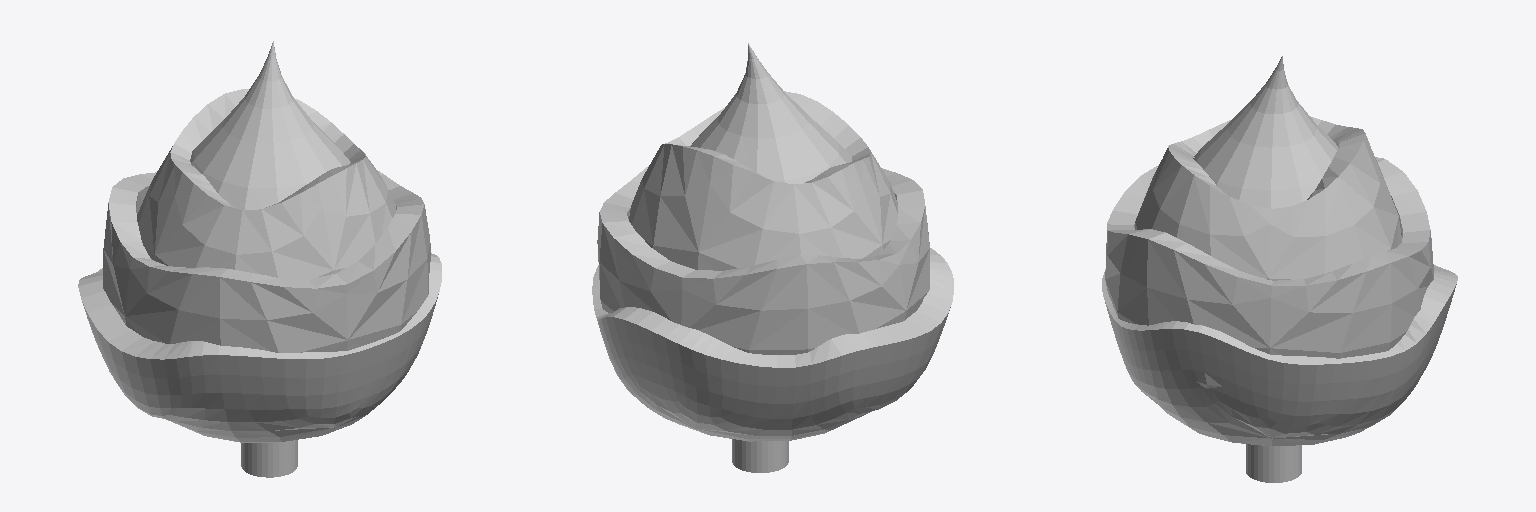
The model's file is tree3.obj.
3 views of the same model, side by side, from view 1: azimuth 30°, elevation 25°; view 2: azimuth 150°, elevation 25°; view 3: azimuth 270°, elevation 25° (orthographic).
Parts seen in each view (by area): view 1: tree3; view 2: tree3; view 3: tree3.
Boxes of the visible parts, <box> form: tree3: <box>78,41,441,477</box>; tree3: <box>592,43,953,472</box>; tree3: <box>1102,56,1457,482</box>.
Bounding box in the file's own units: 3.78 × 4.89 × 3.76.